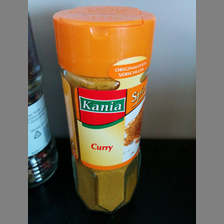spices: (52, 4, 156, 213)
